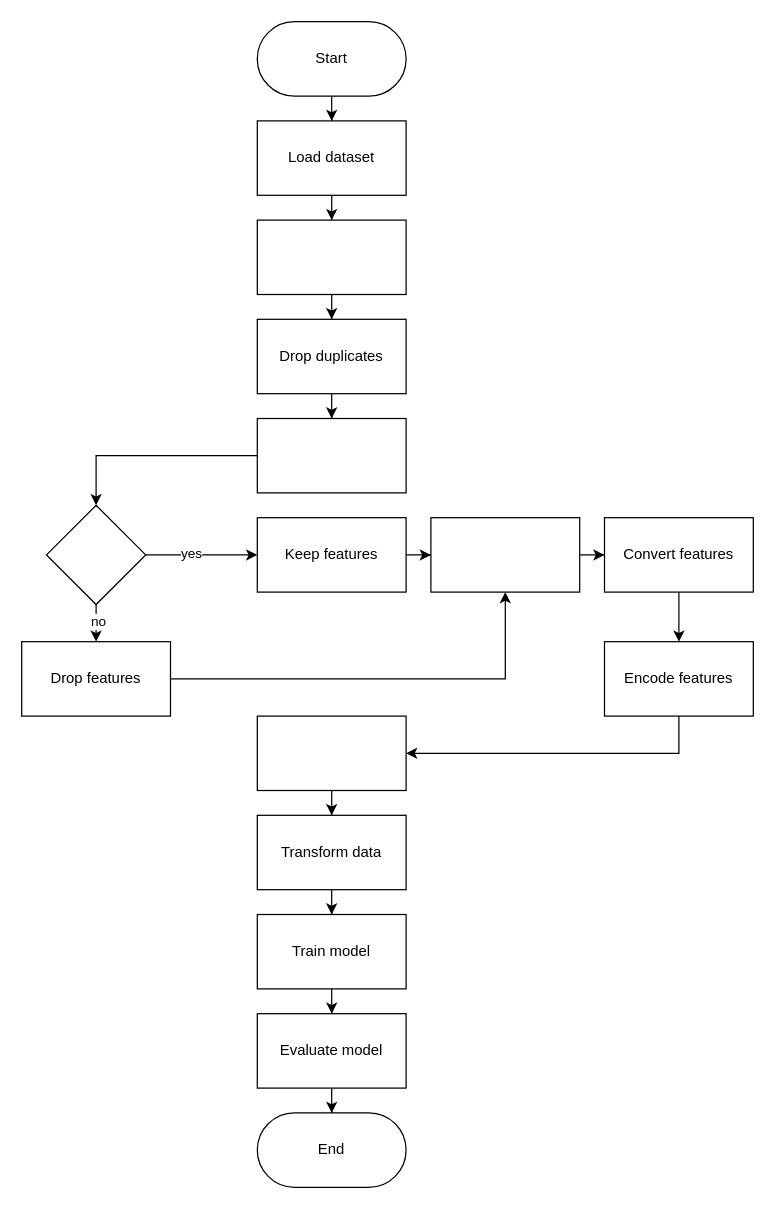
Image size: 775x1209. Some labels were removed from this diagram. The centre of each missing label's shape, as x and y in pixels:
"abs corr > 0.2" belongs at (95,554).
"Calculate correlations" belongs at (331,455).
"Drop null values" belongs at (331,256).
"Drop outliers" belongs at (505,554).
"Split data" belongs at (331,752).
